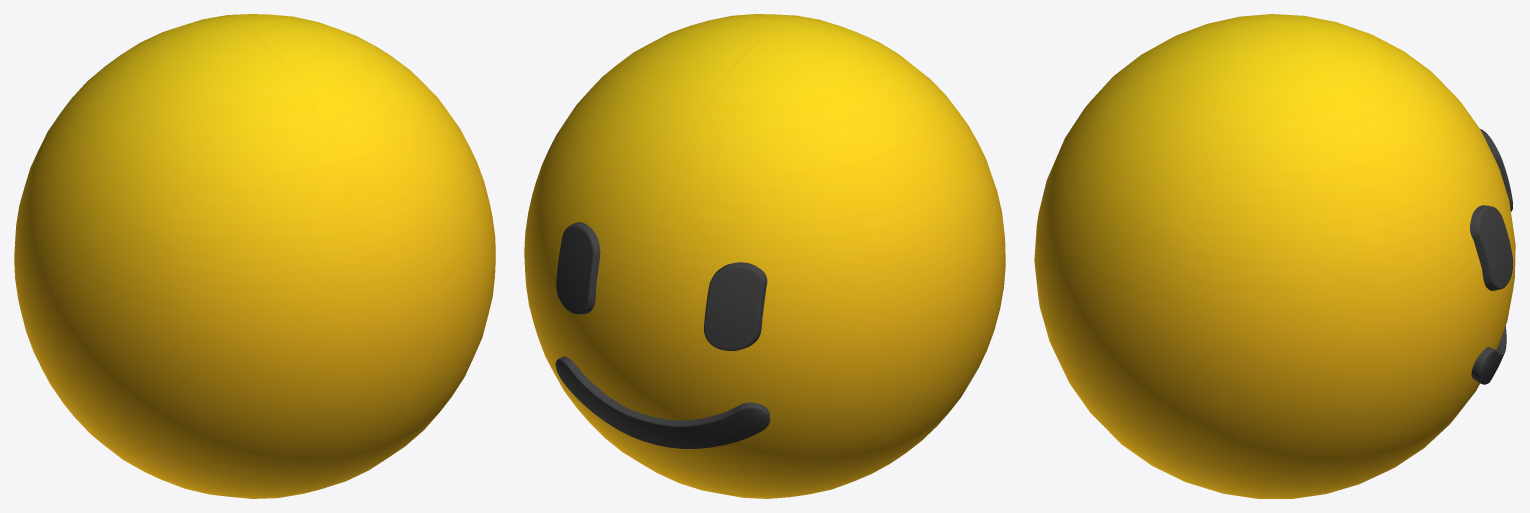
The model's file is SmilingFace.gltf.
The picture shows the model from 3 angles, left to right: view 1: azimuth 30°, elevation 25°; view 2: azimuth 150°, elevation 25°; view 3: azimuth 270°, elevation 25°; orthographic projection.
Visible parts, largest first — view 1: SmilingFace; view 2: SmilingFace; view 3: SmilingFace.
Boxes of the visible parts, left/top/right/bottom form: SmilingFace: left=14, top=14, right=495, bottom=498; SmilingFace: left=524, top=14, right=1005, bottom=498; SmilingFace: left=1034, top=14, right=1515, bottom=498.
Size of the model in its own units: 1.62 by 1.64 by 1.62.
Materials: 1 (1 with a texture image).
